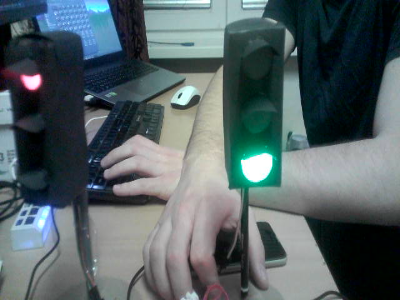trafficlight_green: (233, 32, 282, 187)
trafficlight_red: (10, 43, 58, 210)
